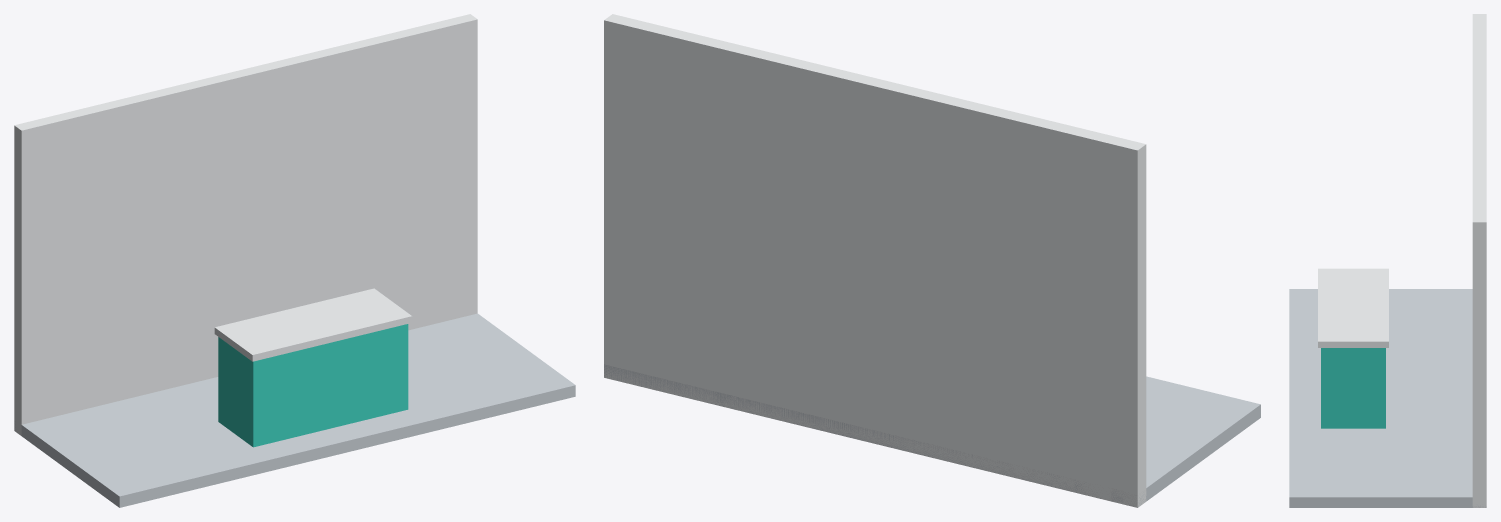
3 views of the same model, side by side, from view 1: azimuth 30°, elevation 25°; view 2: azimuth 150°, elevation 25°; view 3: azimuth 270°, elevation 25° (orthographic). The views are drawn at different scales.
Visible parts, largest first — view 1: Exhibition Booth Concept; view 2: Exhibition Booth Concept; view 3: Exhibition Booth Concept.
Boxes of the visible parts, x1=… form: Exhibition Booth Concept: x1=14, y1=14, x2=575, y2=507; Exhibition Booth Concept: x1=604, y1=14, x2=1260, y2=507; Exhibition Booth Concept: x1=1289, y1=14, x2=1486, y2=507.
Bounding box in the file's own units: 5 × 3.2 × 2.
